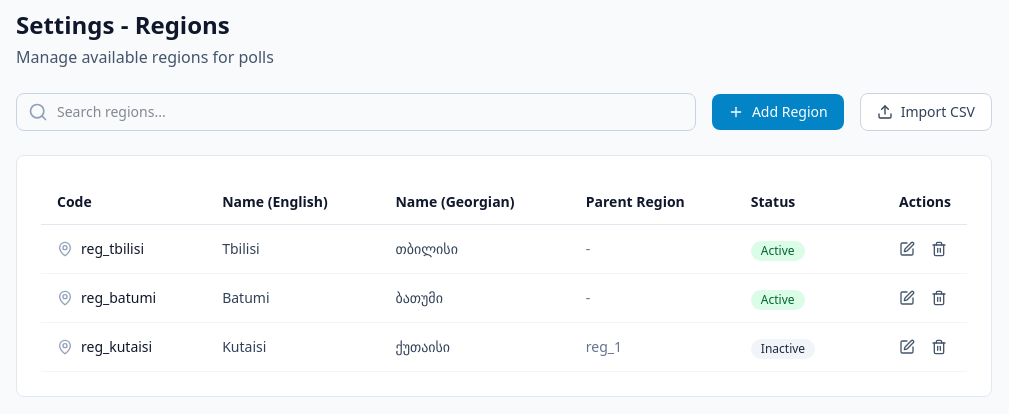
Test: SettingsRegions Component › Search Functionality › should filter regions by English name
Check: the text "Tbilisi" is shown, box [206,224,380,274]
Type "batu" into the field with placeholder "Search regions...".
click(356, 112); type("batu")  # box [16,93,696,131]
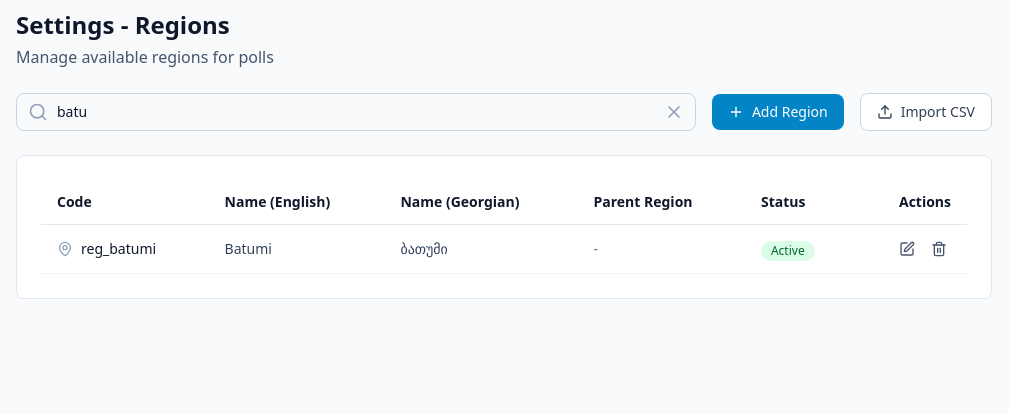
Check: the text "Batumi" is shown, box [209,224,384,274]
Check: the text "tbilisi" is gone
Check: the text "kutaisi" is gone
